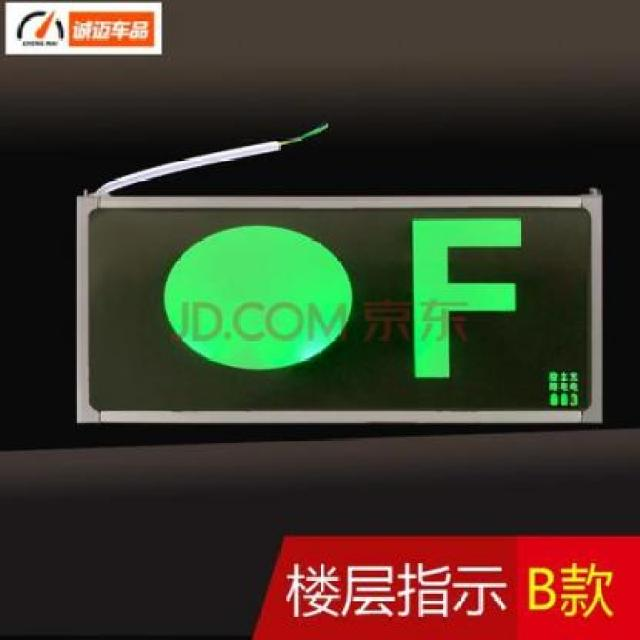exit_sign: (66, 195, 599, 424)
